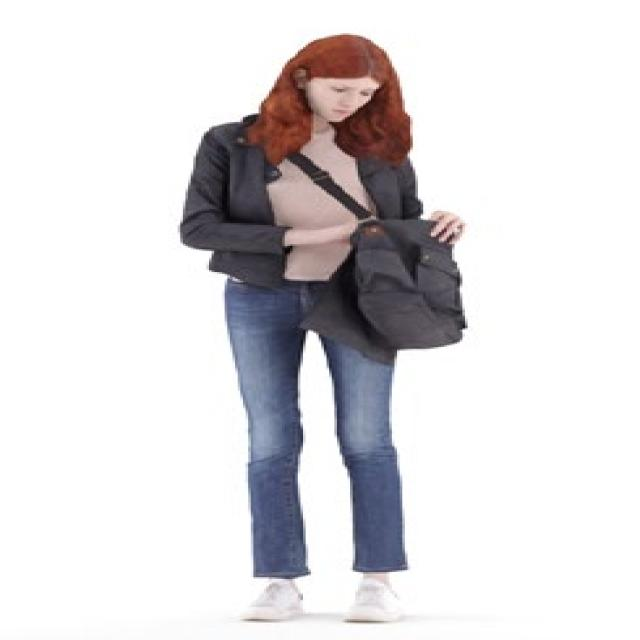standing: (173, 33, 478, 625)
